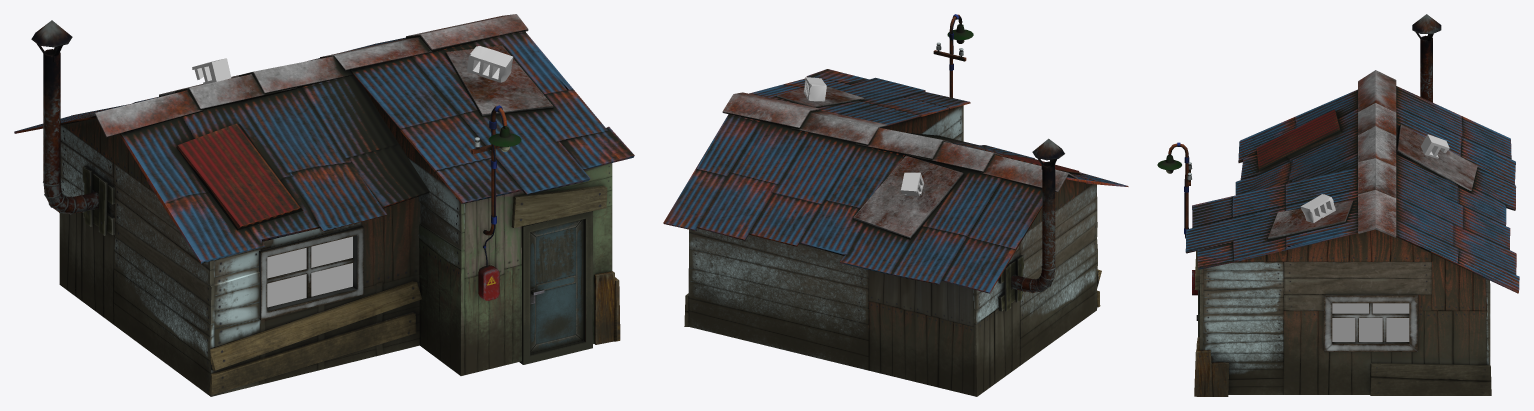
File: House.fbx
The picture shows the model from 3 angles, left to right: view 1: azimuth 30°, elevation 25°; view 2: azimuth 150°, elevation 25°; view 3: azimuth 270°, elevation 25°; orthographic projection. The views are drawn at different scales.
Parts seen in each view (by area): view 1: Walls_low; view 2: Walls_low; view 3: Walls_low.
Part boxes in pixels (x1,y1,x2,y2): Walls_low: (14,14,634,396); Walls_low: (663,14,1128,396); Walls_low: (1157,14,1519,396).
Size of the model in its own units: 869 by 577 by 811.
